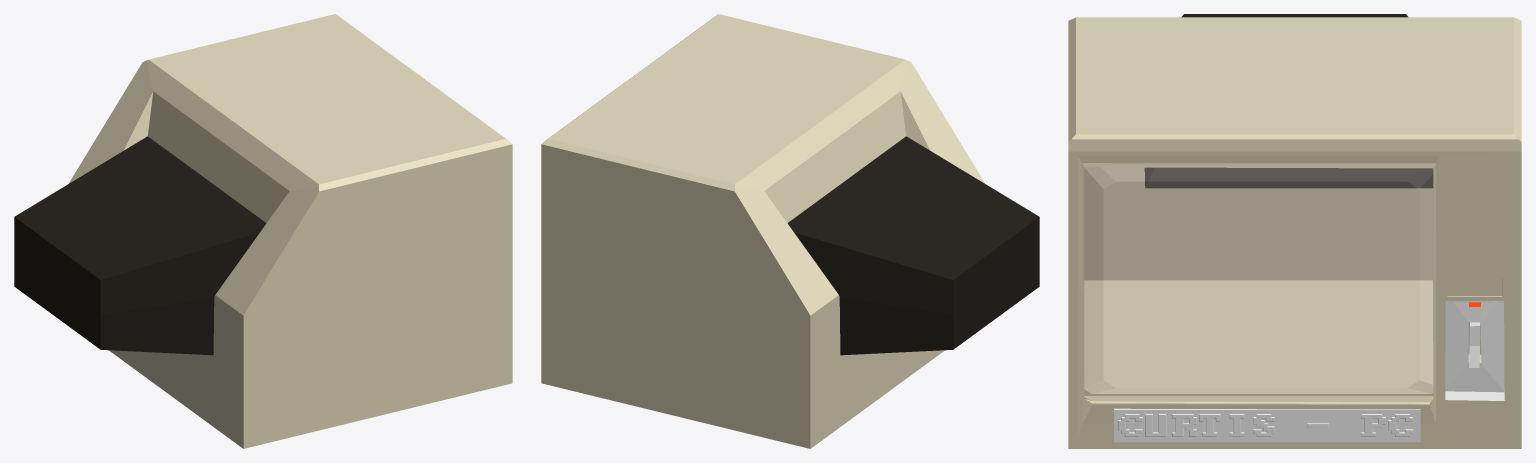
Rendered from AppleComputer.glb.
3 renders of one model, left to right at view 1: azimuth 30°, elevation 25°; view 2: azimuth 150°, elevation 25°; view 3: azimuth 270°, elevation 25°, orthographic. The views are drawn at different scales.
Parts seen in each view (by area): view 1: Monitor.002; view 2: Monitor.002; view 3: Monitor.002.
Boxes of the visible parts, x1,y1,x2,y2 form: Monitor.002: (14,14,512,448); Monitor.002: (541,14,1039,448); Monitor.002: (1068,14,1521,448).
Bounding box in the file's own units: 4.12 × 2.59 × 3.41.
